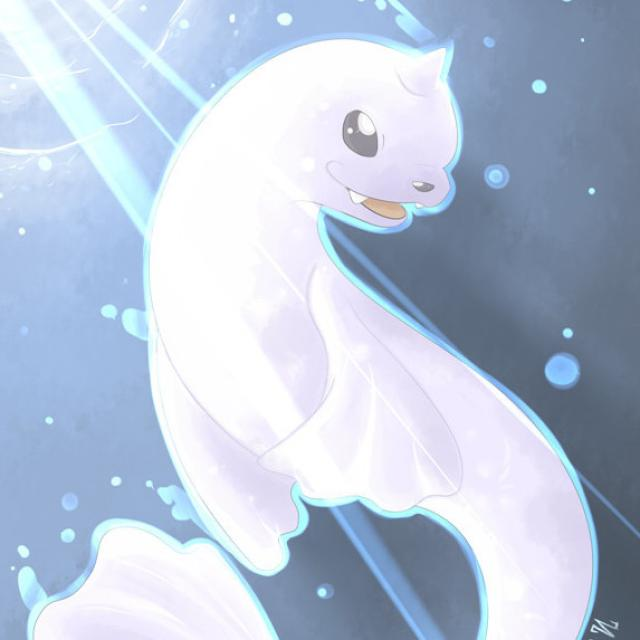Dewgong: (122, 36, 569, 568)
